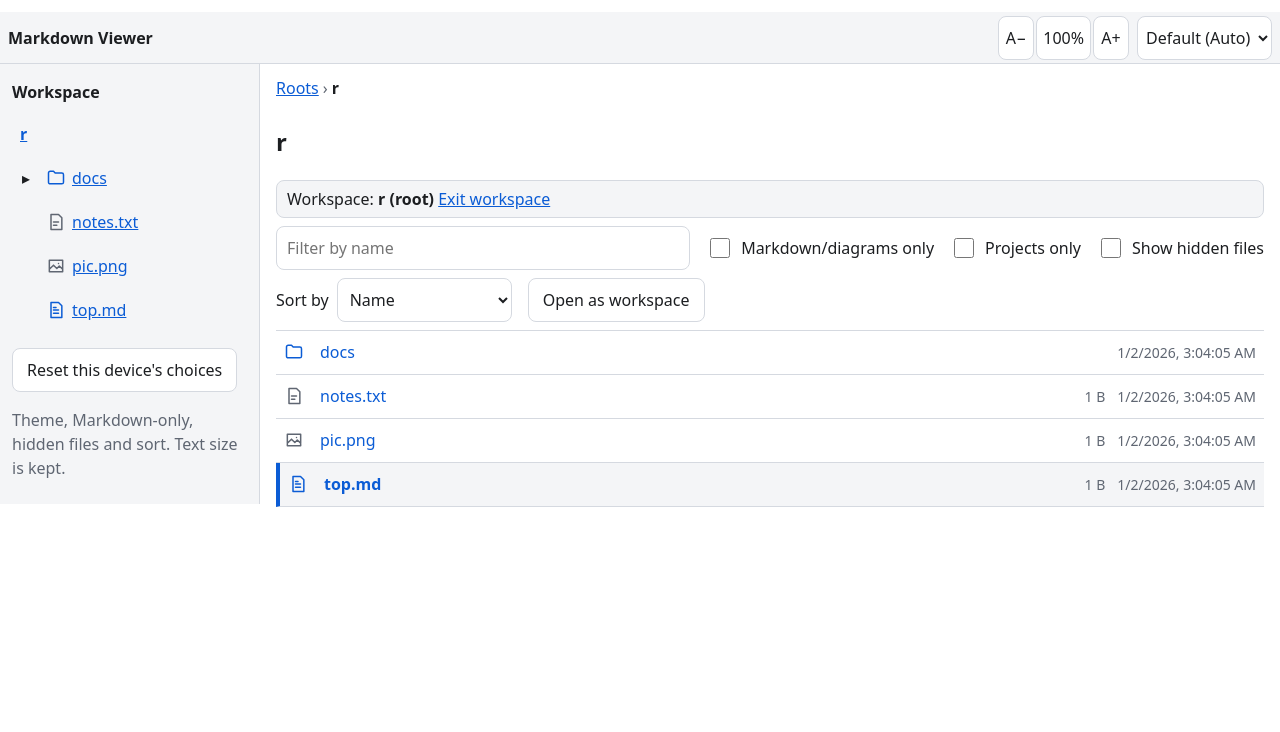
WorkspaceTree › lazy-loads a folder on expand and navigates keeping ws
The image size is (1280, 732).
Check: the 1st link "top.md" is shown, box [46,299,126,321]
Click the button named "Expand docs" at [26, 178], box [12,156,40,200]
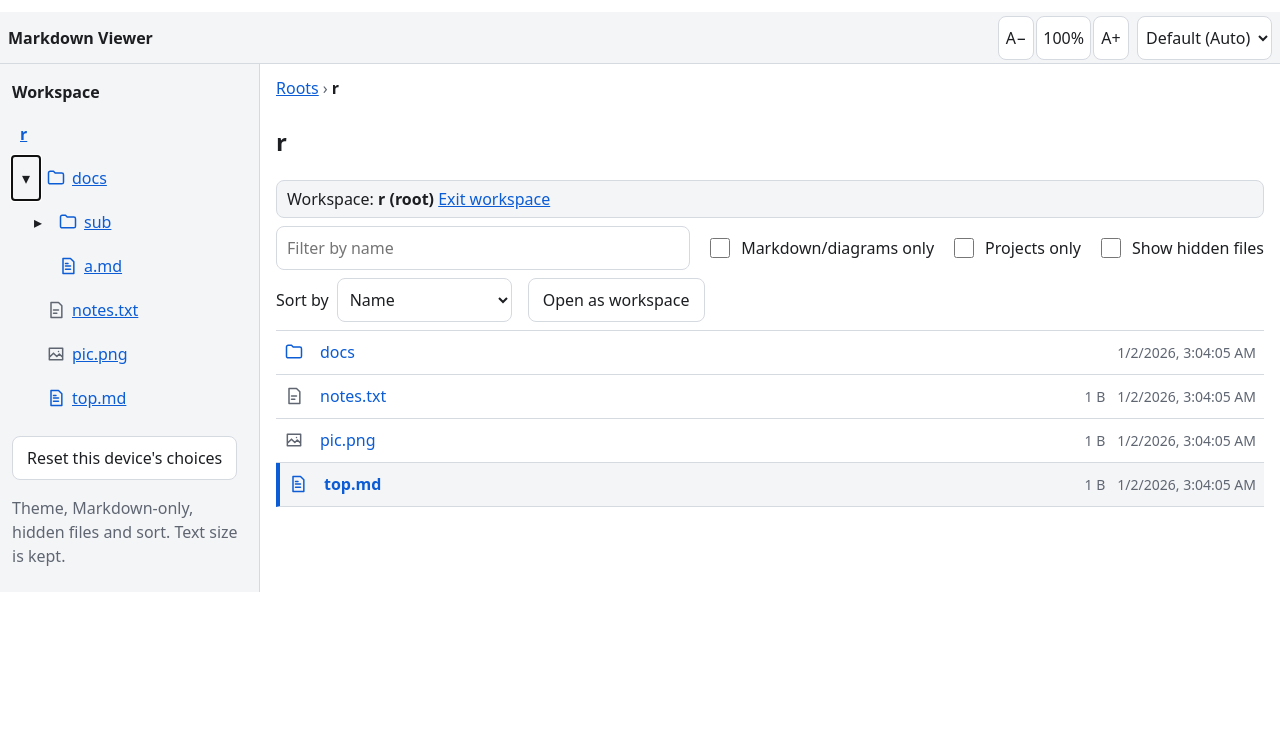
Click the link "a.md" at [90, 266], box [58,255,122,277]
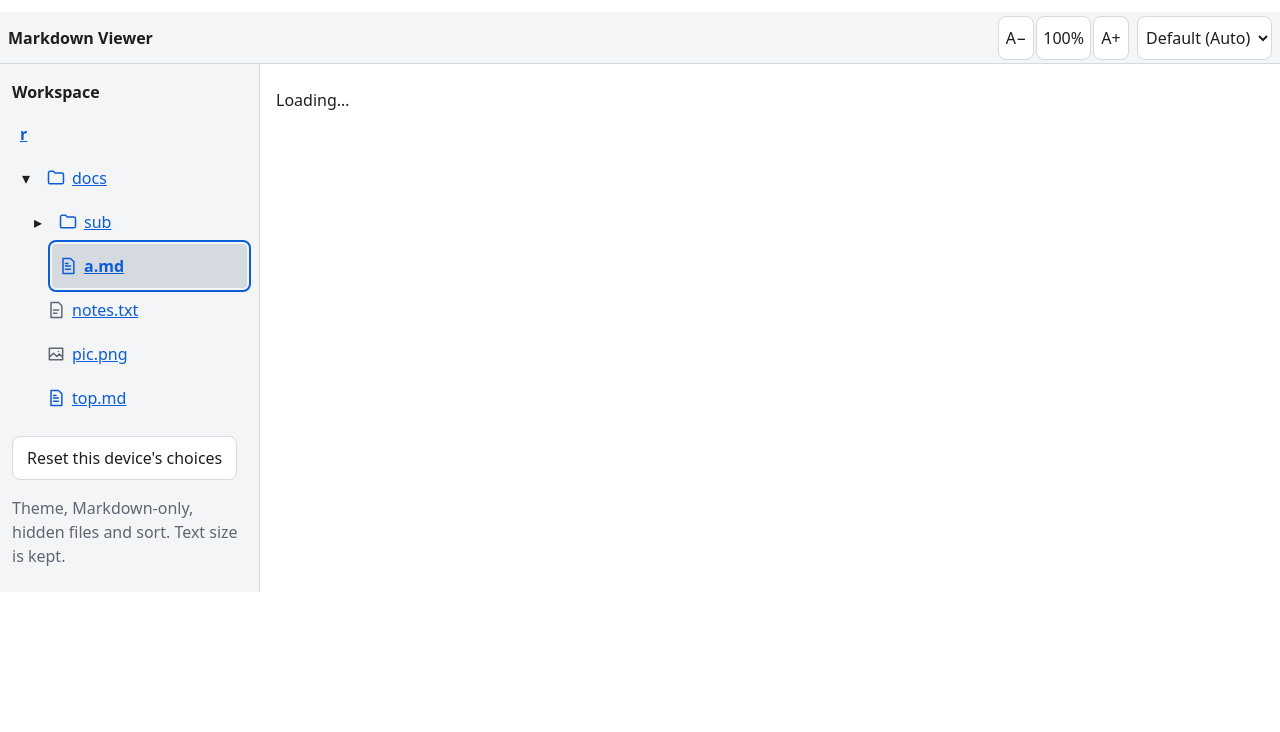
Click the button named "Collapse docs" at [26, 178], box [12,156,40,200]
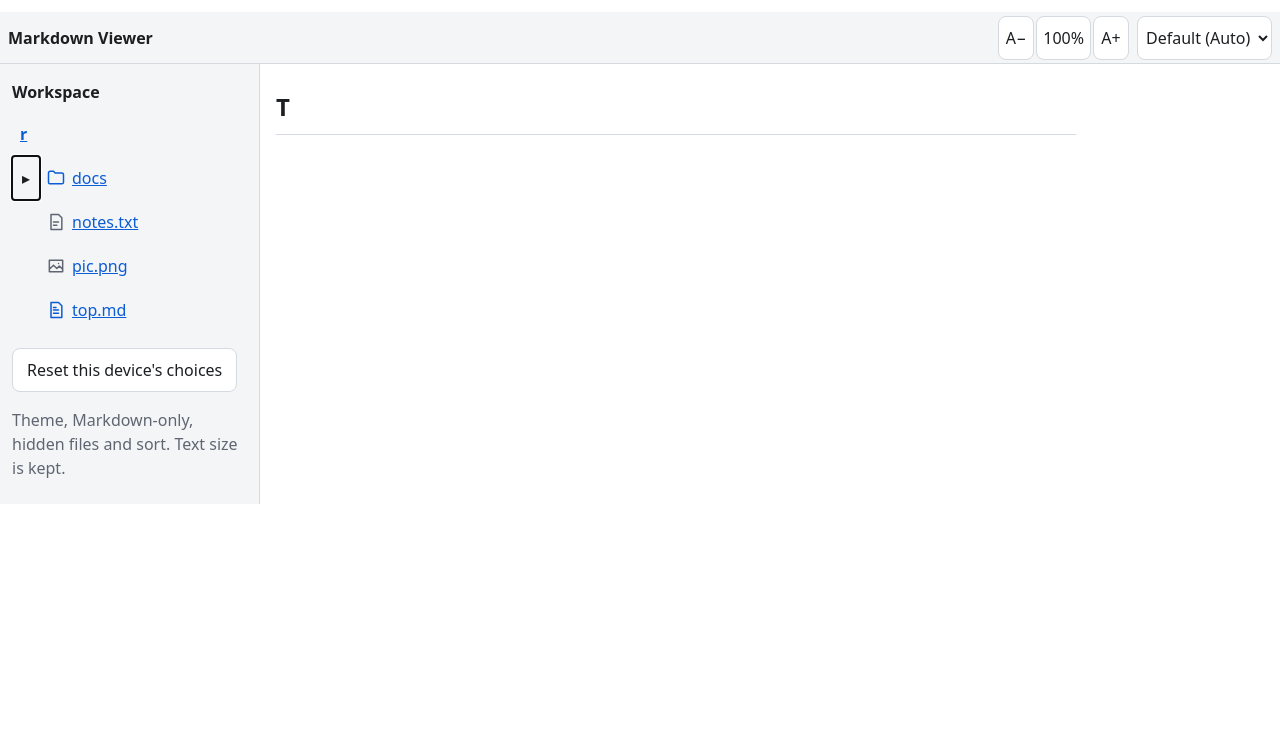
Check: the link "a.md" is gone
